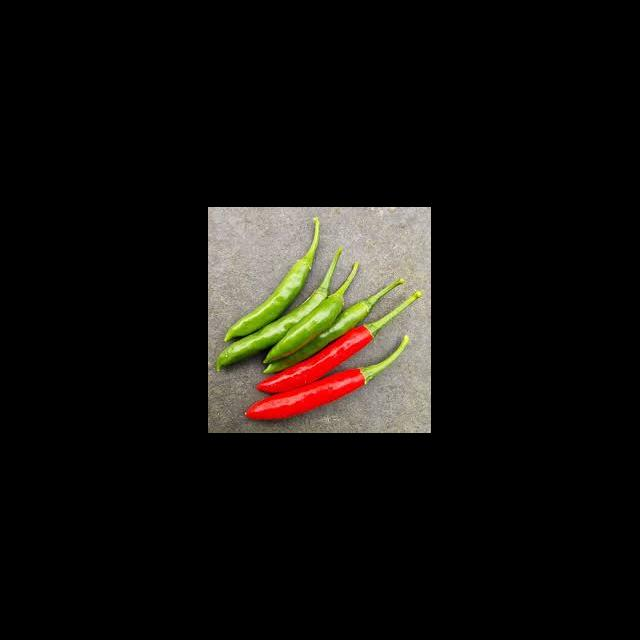chili_pepper: (224, 217, 322, 343), (216, 286, 331, 368), (256, 326, 374, 395), (263, 301, 370, 373), (244, 368, 366, 421), (264, 298, 342, 363)
